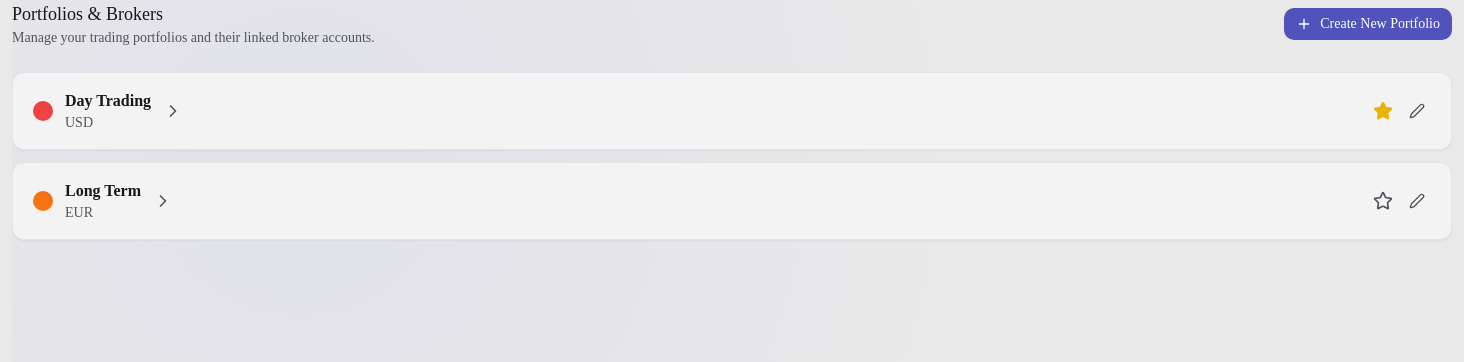
it: PortfoliosBrokersHub › shows Connected badge for active accounts with API keys
What coordinates should you click on to do the following:
click the button "Day Trading USD"
I would click on:
 (108, 100)
Its box is [33, 89, 1359, 133].
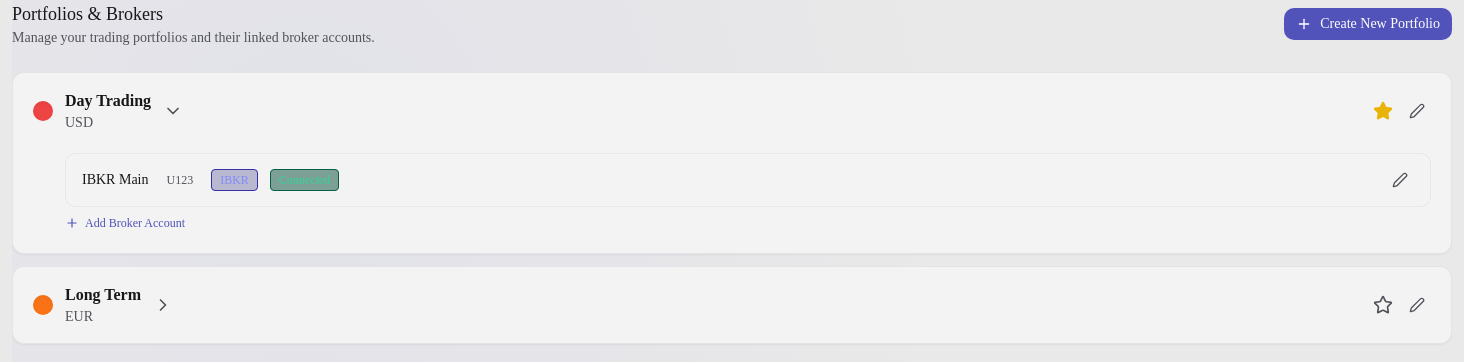
Check: the text "Connected" is shown, box [270, 169, 339, 191]
